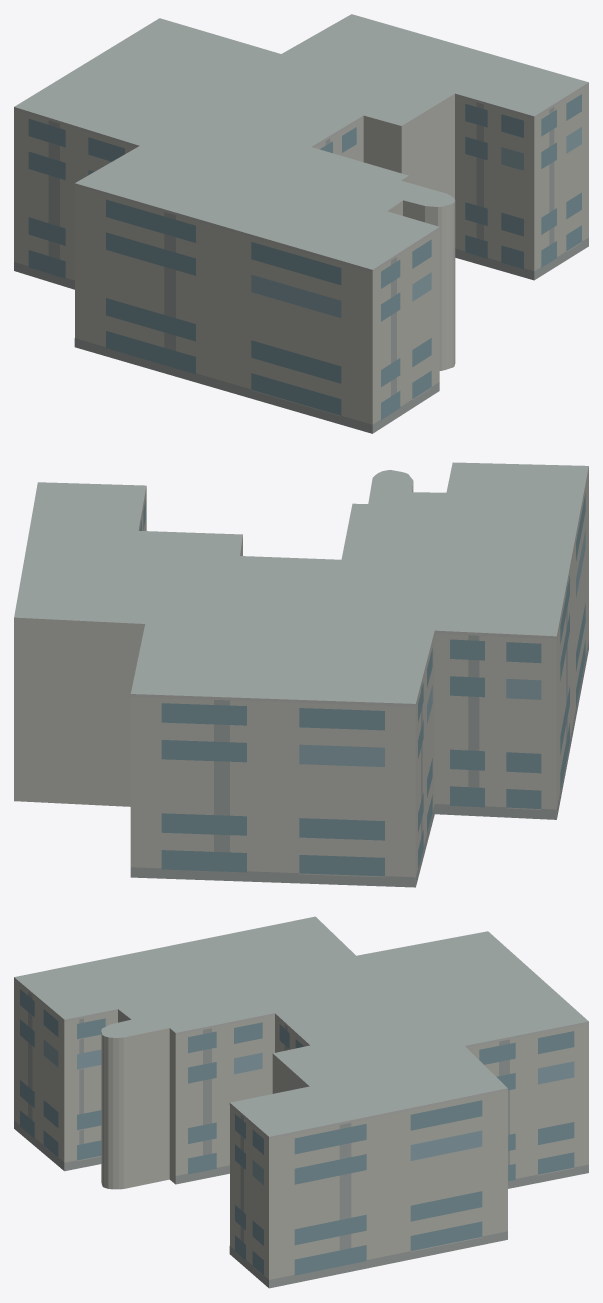
File: survey-upis-32917226.glb
3 views of the same model, one above another, from view 1: azimuth 30°, elevation 25°; view 2: azimuth 150°, elevation 25°; view 3: azimuth 270°, elevation 25° (orthographic). The views are drawn at different scales.
Visible parts, largest first — view 1: survey-upis-32917226.tmp; view 2: survey-upis-32917226.tmp; view 3: survey-upis-32917226.tmp.
Boxes of the visible parts, left/top/right/bottom form: survey-upis-32917226.tmp: left=14, top=14, right=588, bottom=433; survey-upis-32917226.tmp: left=14, top=462, right=588, bottom=887; survey-upis-32917226.tmp: left=14, top=916, right=588, bottom=1288.
Bounding box in the file's own units: 47.58 × 15.25 × 52.44.
